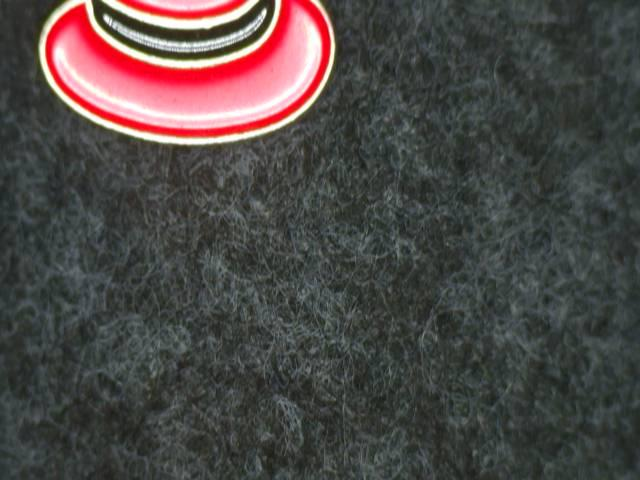Red-Hat: (30, 0, 370, 165)
